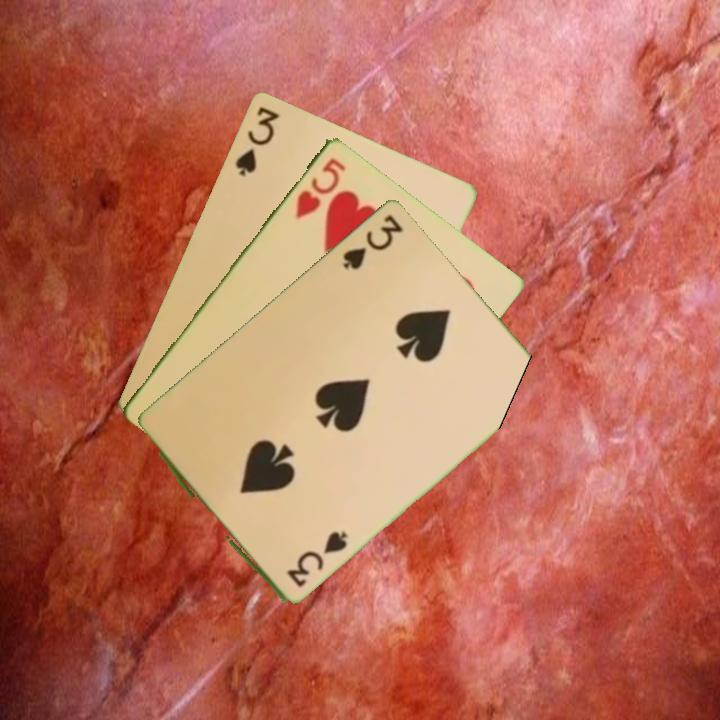3s: (283, 527, 350, 590), (339, 210, 407, 272), (231, 102, 282, 179)
5h: (291, 153, 349, 221)
